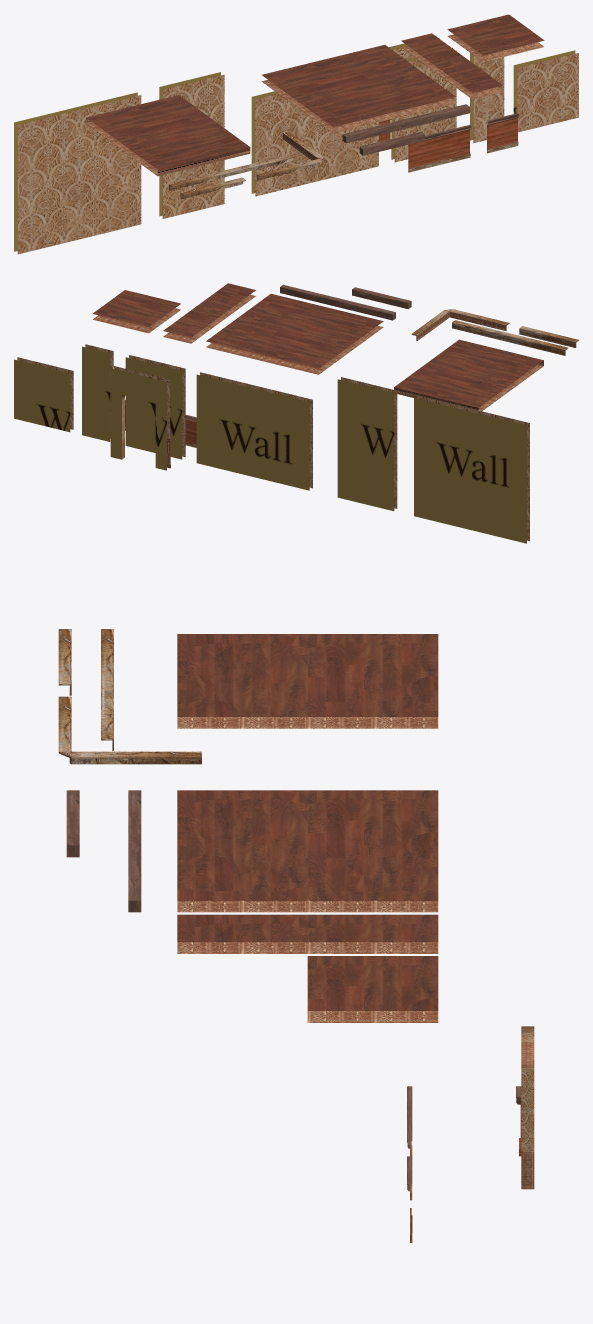
The model's file is Structures.FBX.
3 renders of one model, top to bottom at view 1: azimuth 30°, elevation 25°; view 2: azimuth 150°, elevation 25°; view 3: azimuth 270°, elevation 25°, orthographic. The views are drawn at different scales.
Parts seen in each view (by area): view 1: wall_4x4_001, ceiling_4x4_001, ceiling_4x3_003, wall_3x4_001, wall_2x2_002, wall_4x2_001, wallTrim_1x2_001 (×2), ceiling_4x1_001, ceiling_2x2_001, wall_3x1_001, wall_3x2_001, wallTrim2_4m_001 (+4 smaller); view 2: wall_4x4_001, wall_3x4_001, ceiling_4x4_001, wall_4x2_001, ceiling_4x3_003, wall_2x2_002, wall_3x2_001, doorWall_3x2_001, wall_3x1_001, ceiling_4x1_001, ceiling_2x2_001, wallTrim2_4m_001 (+5 smaller); view 3: ceiling_4x4_001, ceiling_4x3_003, ceiling_4x1_001, ceiling_2x2_001, cornerWallTrim3_2m_002, doorWall_3x2_001, wallTrim2_4m_001, wallTrim3_4m_001, wallTrim2_2m_001.
Boxes of the visible parts, left/top/right/bottom form: wall_4x4_001: left=14, top=92, right=141, bottom=254; ceiling_4x4_001: left=262, top=45, right=455, bottom=133; ceiling_4x3_003: left=86, top=95, right=250, bottom=176; wall_3x4_001: left=251, top=91, right=378, bottom=196; wall_2x2_002: left=513, top=50, right=578, bottom=132; wall_4x2_001: left=159, top=72, right=224, bottom=218; wallTrim_1x2_001 (×2): left=408, top=113, right=518, bottom=172; ceiling_4x1_001: left=401, top=33, right=502, bottom=99; ceiling_2x2_001: left=447, top=14, right=544, bottom=61; wall_3x1_001: left=470, top=53, right=504, bottom=143; wall_3x2_001: left=391, top=48, right=456, bottom=162; wallTrim2_4m_001: left=342, top=104, right=469, bottom=143; wall_4x4_001: left=414, top=395, right=529, bottom=543; wall_3x4_001: left=196, top=372, right=312, bottom=490; ceiling_4x4_001: left=206, top=293, right=383, bottom=374; wall_4x2_001: left=337, top=377, right=397, bottom=511; ceiling_4x3_003: left=394, top=339, right=543, bottom=411; wall_2x2_002: left=14, top=357, right=73, bottom=432; wall_3x2_001: left=125, top=355, right=185, bottom=459; doorWall_3x2_001: left=110, top=366, right=170, bottom=470; wall_3x1_001: left=82, top=344, right=113, bottom=441; ceiling_4x1_001: left=163, top=283, right=255, bottom=343; ceiling_2x2_001: left=92, top=290, right=180, bottom=333; wallTrim2_4m_001: left=280, top=284, right=395, bottom=320; ceiling_4x4_001: left=177, top=790, right=438, bottom=912; ceiling_4x3_003: left=177, top=634, right=438, bottom=728; ceiling_4x1_001: left=177, top=914, right=438, bottom=953; ceiling_2x2_001: left=307, top=956, right=438, bottom=1022; cornerWallTrim3_2m_002: left=58, top=696, right=201, bottom=764; doorWall_3x2_001: left=521, top=1026, right=534, bottom=1189; wallTrim2_4m_001: left=128, top=790, right=141, bottom=912; wallTrim3_4m_001: left=101, top=629, right=113, bottom=750; wallTrim2_2m_001: left=66, top=790, right=79, bottom=857.
Bounding box in the file's own units: 715 × 157 × 287.
